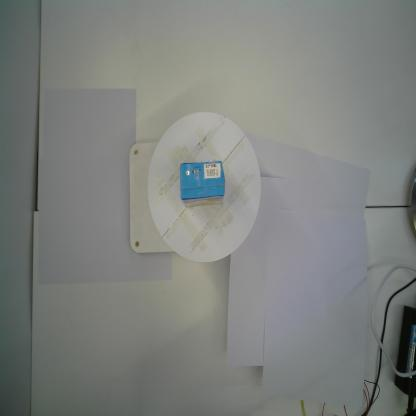Milk: (178, 159, 226, 211)
